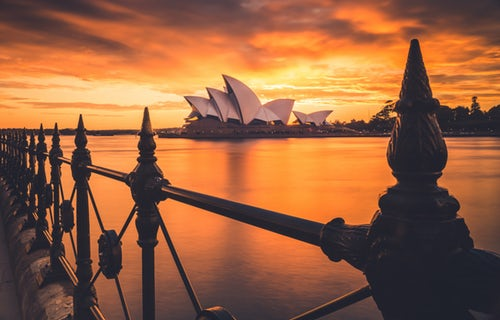opera house: (162, 67, 342, 143)
